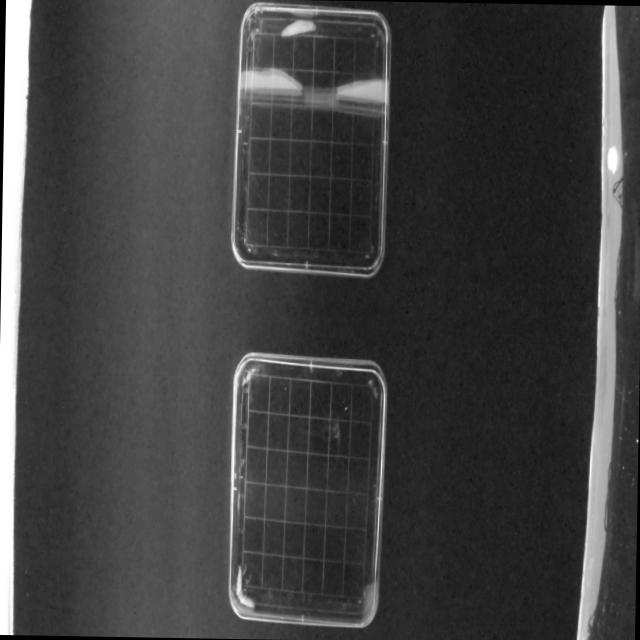larva: (236, 564, 258, 612), (280, 18, 316, 38)
